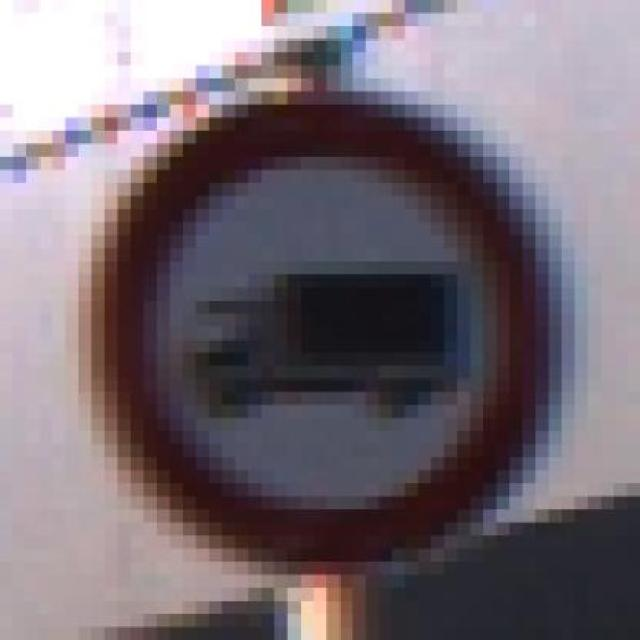Truck traffic is prohibited: (79, 65, 562, 588)
